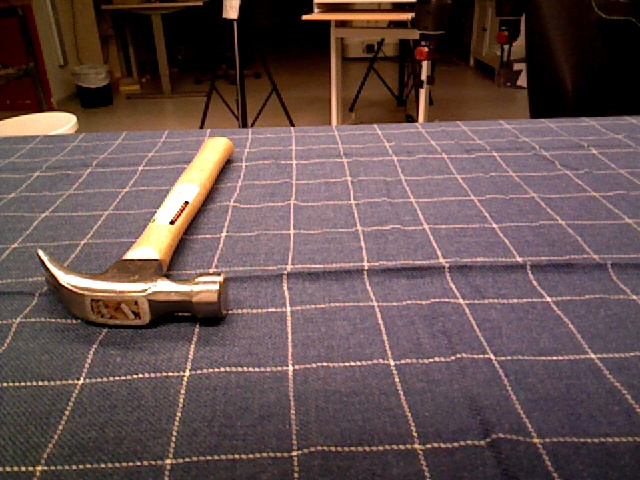hammer1: (35, 134, 238, 331)
